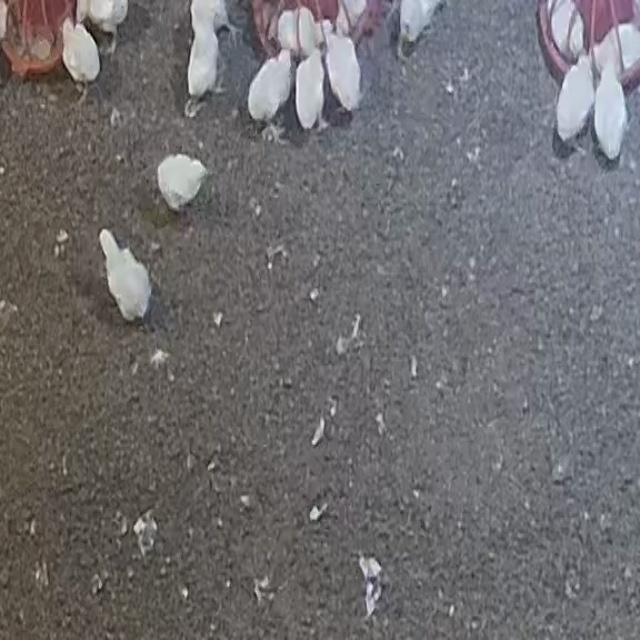chicken: (94, 224, 156, 324), (554, 54, 594, 158), (322, 26, 366, 116), (246, 48, 294, 128), (155, 155, 215, 218), (592, 55, 626, 161), (60, 18, 100, 102), (294, 45, 326, 131)
